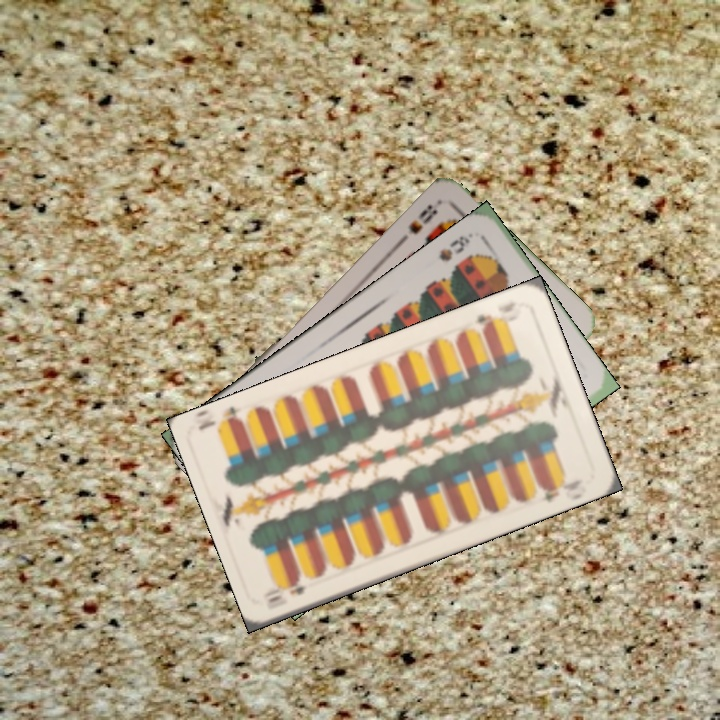E10: (261, 575, 308, 606), (471, 309, 505, 334)
S8: (404, 196, 443, 237), (434, 228, 476, 264)
